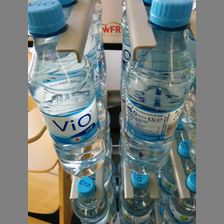water: (28, 1, 105, 178), (120, 1, 194, 167)
